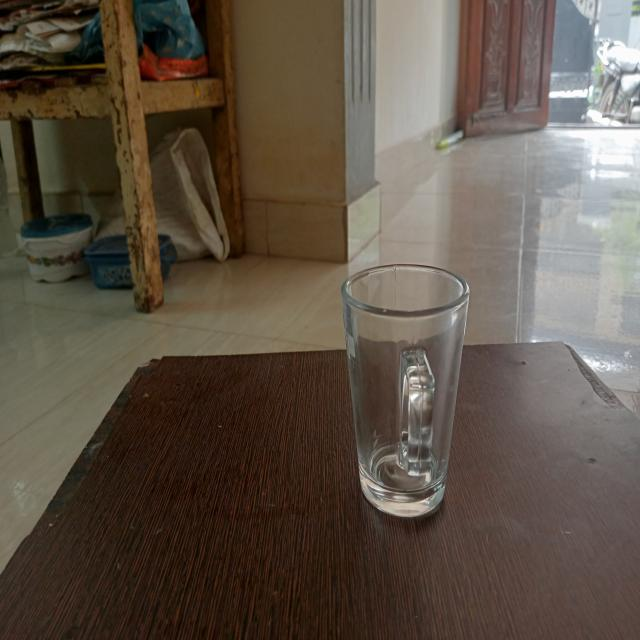glass-VX4N: (338, 262, 472, 521)
